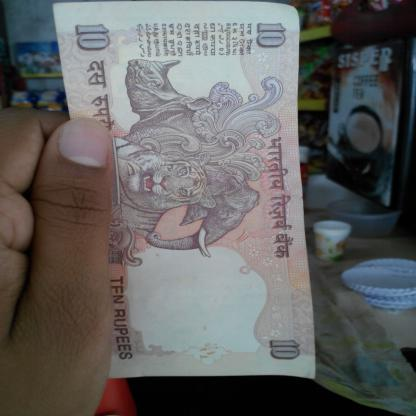Old10Back: (50, 0, 318, 381)
